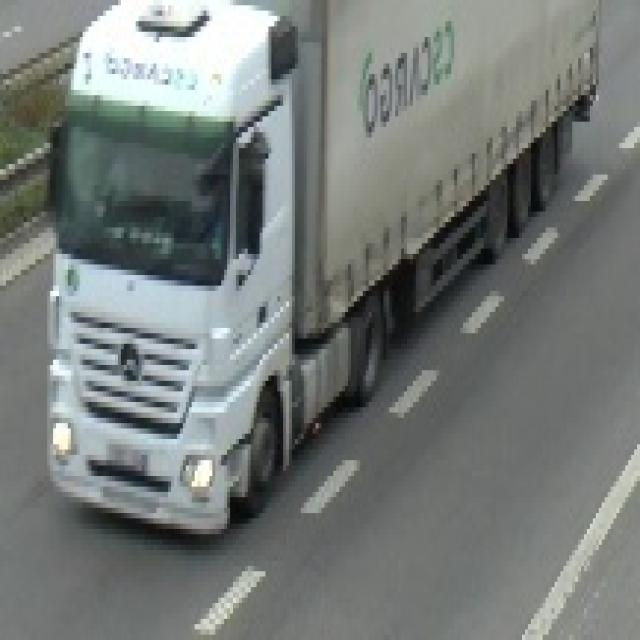TRUCK: (46, 0, 614, 533)
